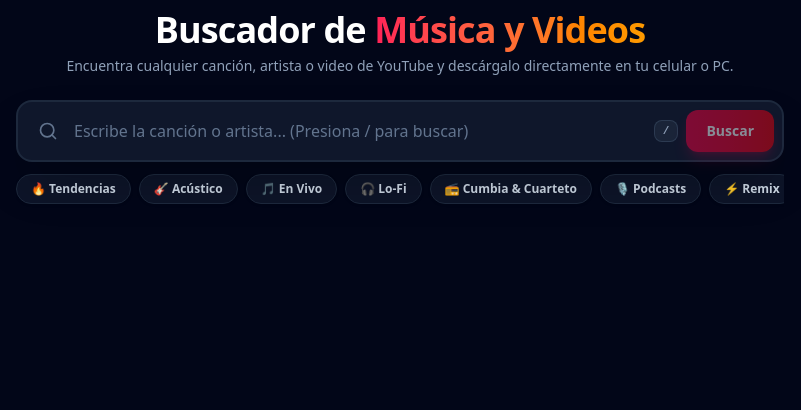
Test: SearchHistory & Touch Theme Chips Tests › debe desplegar el panel flotante de historial al enfocar el input si hay búsquedas previas
Expected: the element "Búsquedas recientes" is not shown
Al enfocar el input
Focus the field with placeholder "Escribe la canción o artista... (Presiona / para buscar)" at point(360, 131), box [66,111,654,151]
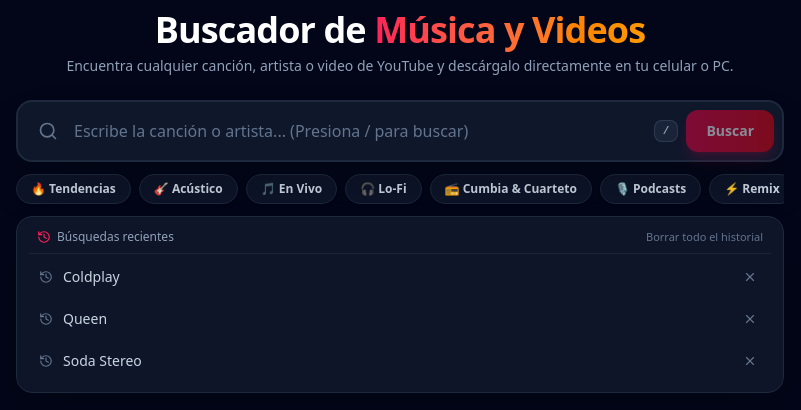
Result: the element "Búsquedas recientes" is shown at [16,216,784,393]
Result: the text "Coldplay" is shown at [63,267,120,287]
Result: the text "Queen" is shown at [63,309,107,329]
